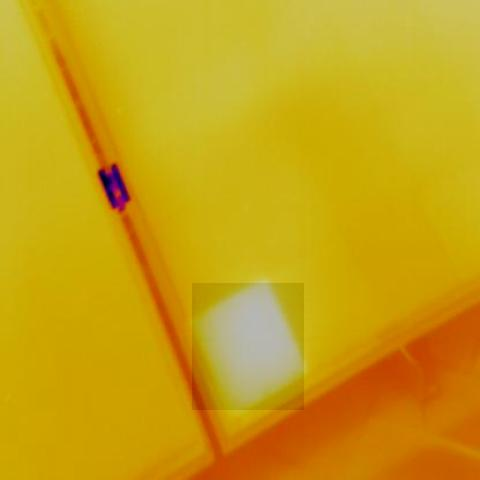fault: (192, 283, 304, 410)
